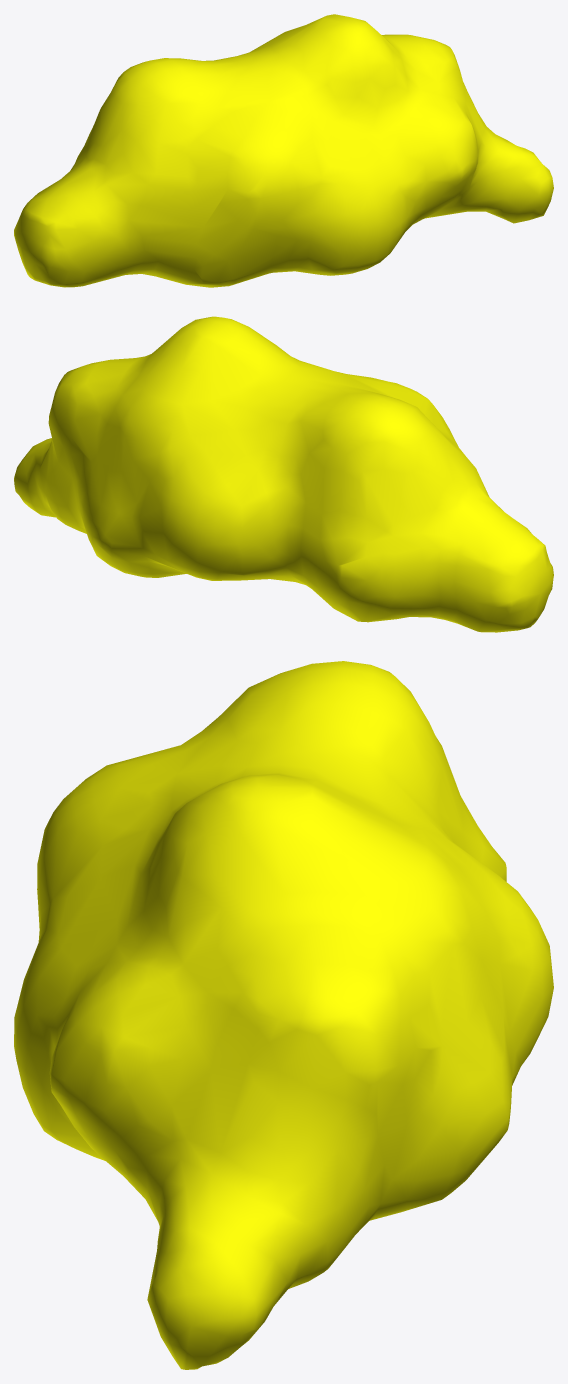
File: cloud_h.glb
3 renders of one model, top to bottom at view 1: azimuth 30°, elevation 25°; view 2: azimuth 150°, elevation 25°; view 3: azimuth 270°, elevation 25°, orthographic. The views are drawn at different scales.
Visible parts, largest first — view 1: SM_Cloud_08; view 2: SM_Cloud_08; view 3: SM_Cloud_08.
Boxes of the visible parts, left/top/right/bottom form: SM_Cloud_08: left=14, top=14, right=553, bottom=287; SM_Cloud_08: left=14, top=316, right=553, bottom=632; SM_Cloud_08: left=14, top=661, right=553, bottom=1369.
Bounding box in the file's own units: 6.68 × 2.86 × 3.33.
